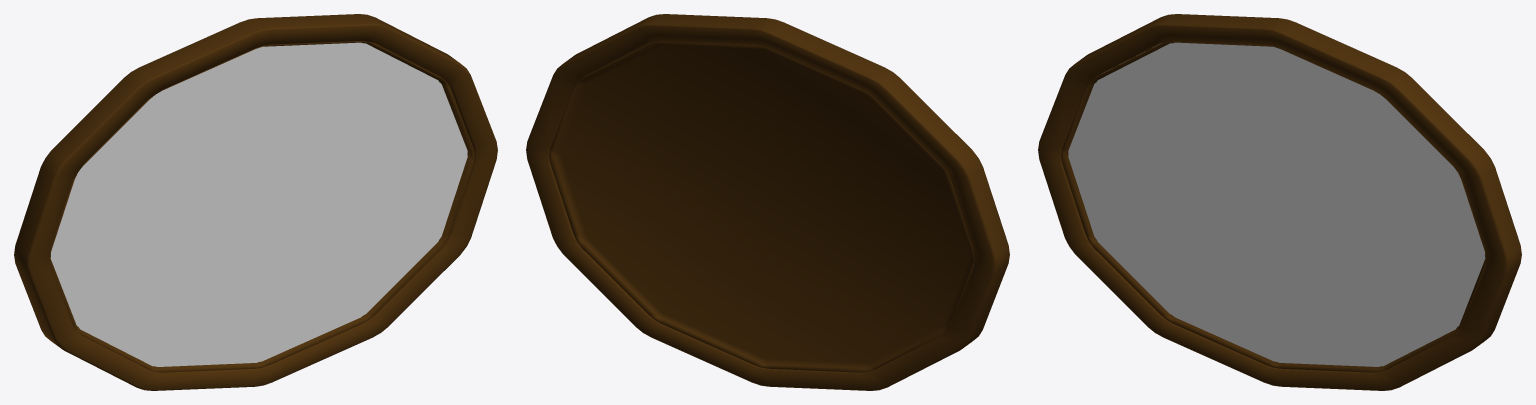
File: Espelho Parede.fbx
3 renders of one model, left to right at view 1: azimuth 30°, elevation 25°; view 2: azimuth 150°, elevation 25°; view 3: azimuth 330°, elevation 25°, orthographic.
Parts seen in each view (by area): view 1: Vidro.001, Espelho.001; view 2: Espelho.001; view 3: Vidro.001, Espelho.001.
Part boxes in pixels (bbox=[...]): Vidro.001: bbox=[50, 42, 467, 366]; Espelho.001: bbox=[14, 14, 497, 390]; Espelho.001: bbox=[526, 14, 1009, 390]; Vidro.001: bbox=[1068, 42, 1485, 366]; Espelho.001: bbox=[1038, 14, 1521, 390].
Size of the model in its own units: 63.73 by 46 by 3.55.
